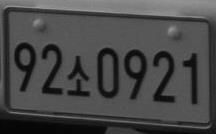0: (96, 46, 120, 98)
1: (180, 51, 205, 105)
2: (152, 49, 176, 103), (40, 42, 62, 94)
9: (12, 41, 37, 93), (123, 47, 147, 99)
소: (66, 55, 91, 96)
